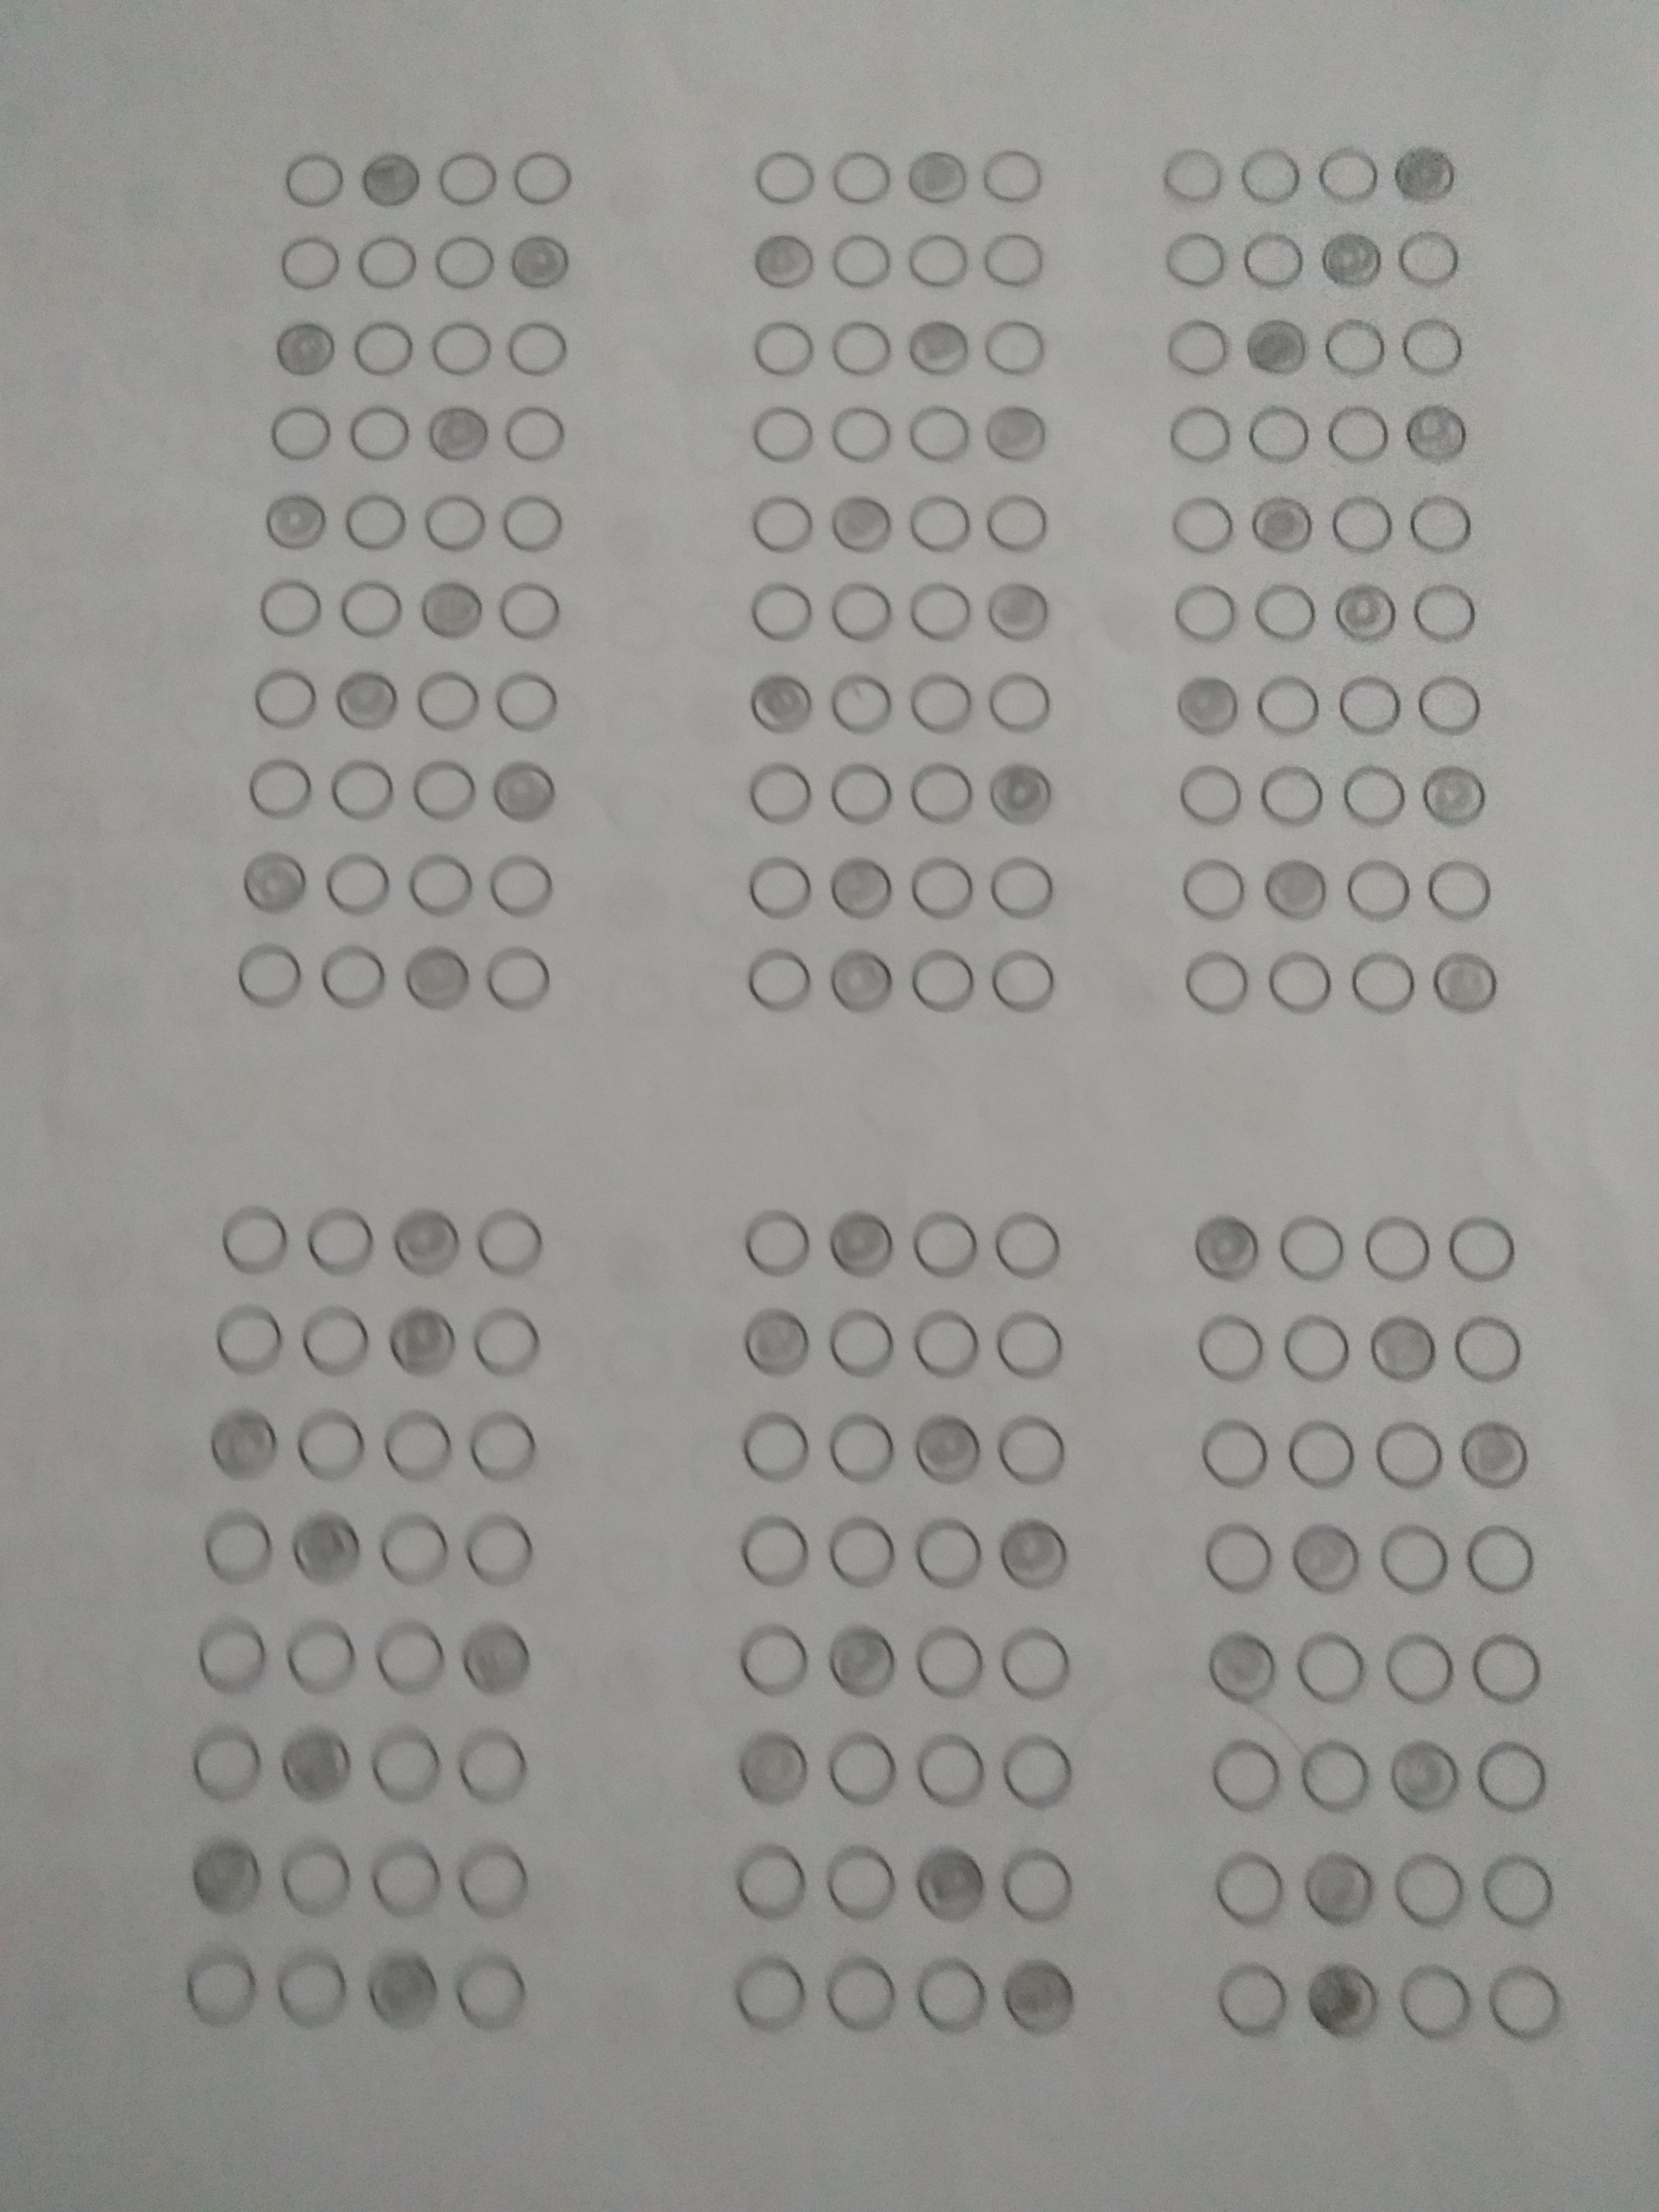not-c: (179, 1947, 261, 2036), (450, 1726, 532, 1810), (192, 1615, 274, 1696), (368, 1505, 450, 1587), (1291, 1625, 1373, 1707), (368, 1836, 450, 1918), (1213, 1958, 1293, 2041), (1387, 1850, 1467, 1933), (1208, 1735, 1288, 1818), (1378, 1627, 1459, 1710), (911, 1731, 992, 1815), (737, 1616, 817, 1700), (997, 1728, 1077, 1811), (732, 1841, 812, 1923), (1486, 1959, 1567, 2041), (274, 1838, 354, 1919), (188, 1721, 268, 1803), (362, 1724, 443, 1806), (282, 1616, 362, 1698), (368, 1616, 448, 1698), (197, 1507, 277, 1588), (458, 1510, 538, 1592), (1396, 1961, 1476, 2043), (1480, 1850, 1560, 1932), (1213, 1848, 1293, 1930), (1297, 1737, 1377, 1818), (1471, 1733, 1551, 1815), (1467, 1629, 1547, 1710), (995, 1620, 1075, 1702), (910, 1618, 990, 1700), (997, 1846, 1077, 1928), (910, 1956, 990, 2038), (821, 1952, 901, 2034), (728, 1954, 809, 2036), (274, 1949, 354, 2031), (448, 1951, 528, 2033), (457, 1839, 537, 1921), (824, 1844, 904, 1926), (823, 1726, 903, 1808), (462, 1411, 537, 1489), (380, 1406, 455, 1482), (739, 1514, 814, 1587), (1448, 1312, 1523, 1385), (988, 1207, 1061, 1280), (910, 1306, 983, 1379), (821, 1306, 894, 1379), (1358, 1212, 1431, 1285), (305, 1204, 378, 1277), (988, 1209, 1061, 1280), (908, 1207, 981, 1278), (293, 1409, 366, 1480), (824, 1517, 897, 1588), (913, 1519, 986, 1590), (995, 1414, 1068, 1486), (995, 1308, 1068, 1379), (1378, 1522, 1452, 1594), (1464, 1526, 1537, 1597), (1204, 1522, 1277, 1594), (1199, 1420, 1272, 1491), (1286, 1418, 1359, 1489), (1373, 1418, 1446, 1489), (1195, 1313, 1269, 1385), (1281, 1312, 1354, 1383), (1445, 1212, 1518, 1284), (1274, 1212, 1347, 1284), (824, 1413, 897, 1484), (739, 1411, 812, 1482), (741, 1209, 814, 1280), (216, 1303, 289, 1374), (298, 1305, 371, 1376), (469, 1306, 542, 1378), (471, 1205, 544, 1277), (220, 1204, 293, 1275), (744, 759, 816, 827), (1168, 491, 1239, 559), (983, 667, 1054, 735), (484, 946, 556, 1014), (988, 946, 1060, 1014), (1347, 949, 1417, 1017), (1178, 853, 1248, 921), (1338, 761, 1408, 829), (1335, 671, 1405, 738), (1408, 575, 1478, 643), (1330, 489, 1399, 557), (824, 578, 894, 646), (746, 491, 816, 559), (749, 402, 819, 470), (234, 942, 303, 1010), (484, 852, 554, 920), (490, 667, 559, 735), (408, 758, 477, 826), (326, 756, 396, 824), (416, 488, 486, 556), (340, 491, 410, 559), (826, 761, 896, 829), (746, 852, 816, 920), (906, 669, 976, 737), (1263, 946, 1333, 1014), (1175, 759, 1246, 826), (1249, 577, 1321, 643), (244, 756, 315, 822), (411, 669, 483, 735), (249, 667, 321, 733), (491, 578, 563, 644), (254, 577, 326, 643), (904, 761, 976, 827), (986, 853, 1058, 920), (1424, 857, 1493, 923), (1344, 857, 1413, 923), (1258, 759, 1328, 826), (1417, 671, 1486, 737), (1253, 672, 1323, 738), (1171, 580, 1241, 646), (906, 577, 976, 643), (746, 580, 816, 646), (983, 491, 1053, 557), (904, 491, 974, 557), (317, 944, 387, 1010), (406, 852, 476, 918), (322, 850, 392, 916), (335, 577, 404, 643), (497, 491, 566, 557), (746, 948, 816, 1014), (908, 946, 978, 1012), (826, 671, 896, 737), (1180, 948, 1249, 1014), (908, 855, 978, 921), (1406, 493, 1474, 554), (274, 232, 343, 291), (749, 148, 817, 207), (978, 148, 1046, 207), (1159, 146, 1227, 206), (1237, 146, 1305, 206), (1314, 145, 1382, 204), (267, 402, 335, 462), (343, 404, 411, 463), (500, 404, 568, 463), (502, 319, 570, 378), (427, 319, 495, 378), (349, 320, 416, 380), (429, 232, 497, 291), (352, 233, 420, 293), (509, 148, 577, 207), (434, 150, 502, 209), (281, 148, 349, 207), (828, 150, 896, 209), (826, 406, 894, 465), (903, 402, 971, 462), (904, 230, 972, 289), (824, 230, 892, 289), (826, 317, 894, 376), (978, 232, 1046, 291), (1168, 406, 1236, 465), (1244, 404, 1312, 463), (1323, 404, 1391, 463), (1398, 317, 1466, 376), (1319, 317, 1387, 376), (1166, 317, 1234, 376), (1161, 230, 1229, 289), (1239, 230, 1307, 289), (748, 319, 816, 376), (979, 319, 1047, 376), (1394, 230, 1462, 287)
taken-c: (1201, 1629, 1281, 1703), (1286, 1521, 1366, 1595), (186, 1838, 267, 1912), (279, 1726, 354, 1804), (737, 1306, 817, 1379), (1305, 1963, 1385, 2036), (1000, 1961, 1080, 2034), (1298, 1853, 1378, 1926), (908, 1848, 988, 1921), (730, 1731, 810, 1804), (819, 1623, 899, 1696), (995, 1517, 1075, 1590), (906, 1413, 986, 1486), (284, 1514, 364, 1587), (1455, 1418, 1535, 1491), (1363, 1315, 1443, 1388), (821, 1209, 901, 1282), (202, 1404, 282, 1477), (1185, 1211, 1265, 1284), (382, 1305, 462, 1378), (1427, 948, 1506, 1021), (821, 946, 899, 1019), (1384, 1740, 1462, 1813), (364, 1954, 443, 2027), (455, 1622, 533, 1695), (385, 1200, 464, 1273), (1398, 397, 1474, 469), (401, 944, 476, 1015), (823, 853, 897, 925), (981, 756, 1056, 827), (978, 577, 1053, 648), (821, 488, 896, 559), (978, 397, 1053, 469), (897, 314, 972, 385), (742, 226, 817, 298), (1258, 853, 1333, 925), (1413, 759, 1488, 831), (1328, 577, 1403, 648), (1171, 669, 1246, 740), (1246, 489, 1321, 561), (1237, 312, 1312, 383), (1312, 223, 1387, 294), (1387, 141, 1462, 212), (422, 401, 497, 472), (500, 228, 575, 300), (484, 756, 559, 827), (329, 667, 404, 738), (411, 575, 486, 646), (267, 314, 343, 383), (354, 143, 429, 212), (239, 850, 314, 920), (256, 489, 331, 559), (896, 148, 976, 211), (744, 671, 814, 738)
